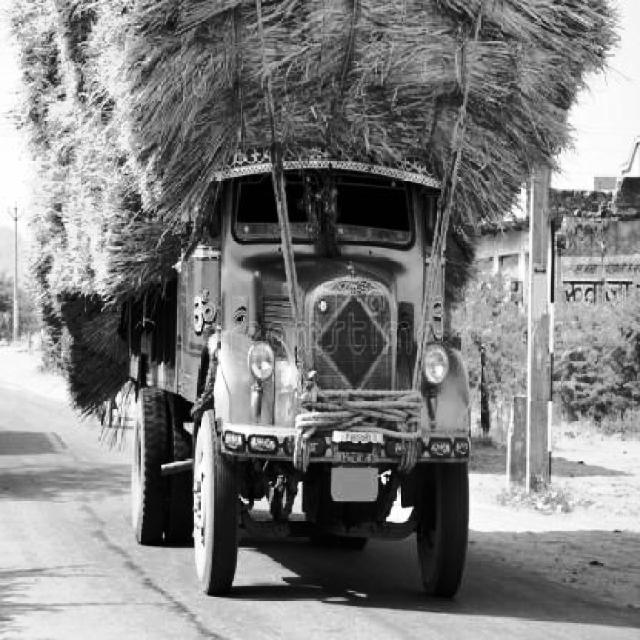HCV: (156, 114, 458, 631)
